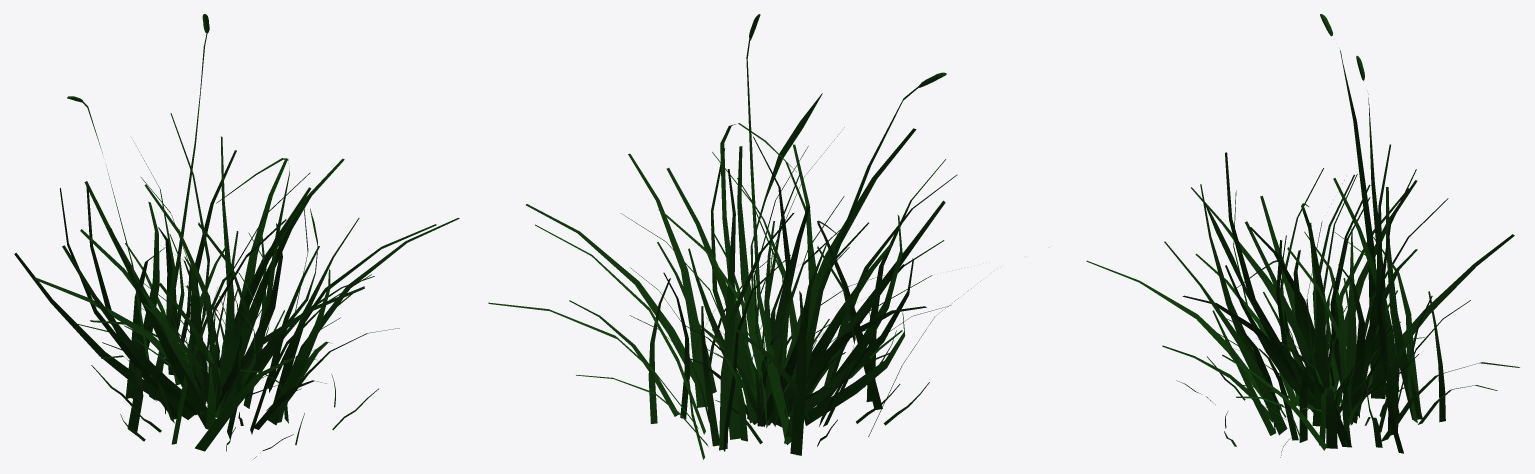
File: Touffe_Herbe.FBX
The picture shows the model from 3 angles, left to right: view 1: azimuth 30°, elevation 25°; view 2: azimuth 150°, elevation 25°; view 3: azimuth 270°, elevation 25°; orthographic projection. The views are drawn at different scales.
Parts seen in each view (by area): view 1: grassClump_001_group5_group1_pPlane2; view 2: grassClump_001_group5_group1_pPlane2; view 3: grassClump_001_group5_group1_pPlane2.
Part boxes in pixels (<box>): grassClump_001_group5_group1_pPlane2: <box>14,14,459,458</box>; grassClump_001_group5_group1_pPlane2: <box>488,14,980,459</box>; grassClump_001_group5_group1_pPlane2: <box>1086,14,1519,457</box>.
Bounding box in the file's own units: 17.57 × 15.33 × 16.36.
